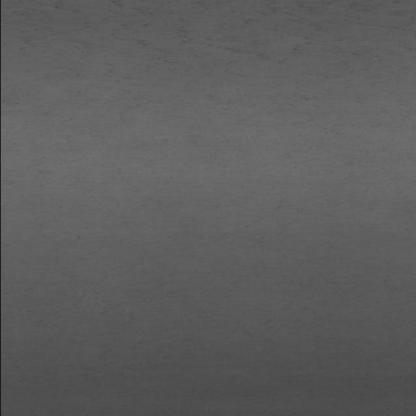silk_spot: (138, 9, 352, 73)
